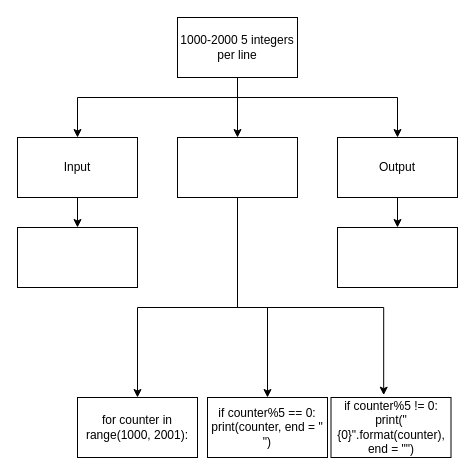
This 475x475 diagram has some shape labels left out. Each missing label, with the centre of its shape:
Process: point 237,167
show the numbers up to 2000: point 397,257
Start: point 77,257
